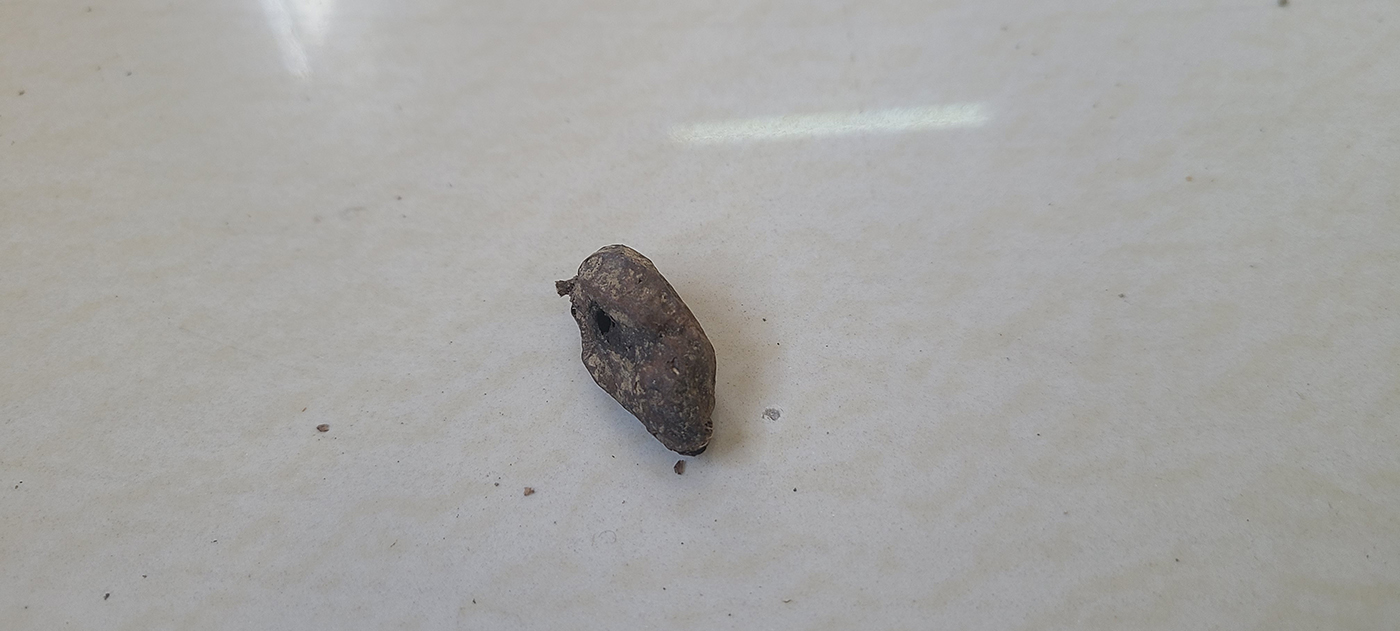l: (564, 244, 721, 461)
